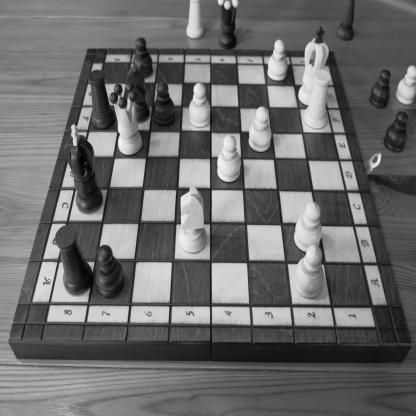black-bishop: (335, 0, 356, 42)
black-king: (64, 124, 103, 214)
black-knight: (125, 64, 150, 124)
black-pawn: (94, 243, 125, 299), (152, 81, 176, 128), (383, 111, 408, 153), (368, 68, 392, 110), (132, 36, 154, 80)
black-queen: (217, 0, 239, 49)
black-rook: (54, 224, 94, 296), (87, 69, 115, 130)
white-king: (298, 26, 329, 106)
white-knight: (178, 186, 207, 253)
white-pawn: (294, 244, 324, 299), (293, 201, 323, 252), (217, 134, 241, 183), (248, 106, 272, 153), (188, 82, 212, 128), (267, 39, 288, 82), (394, 65, 416, 106)
white-queen: (109, 81, 143, 156)
white-rook: (303, 69, 331, 129), (186, 0, 205, 40)
